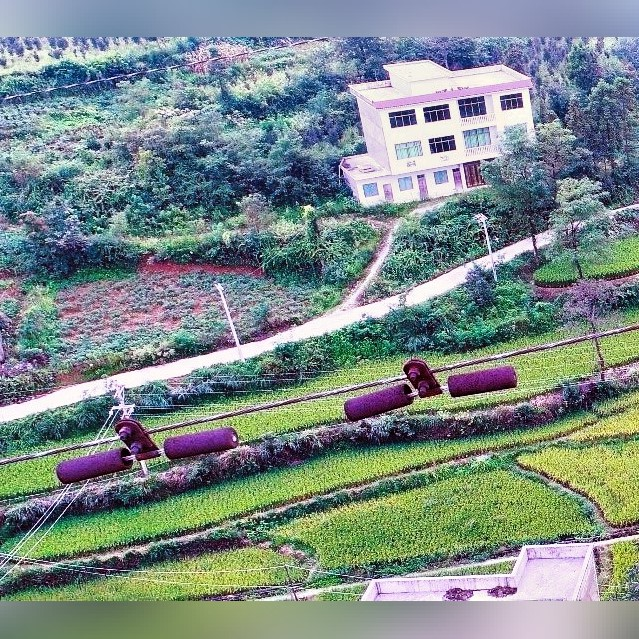Shockproof hammer: (53, 406, 240, 489), (336, 346, 521, 426)
